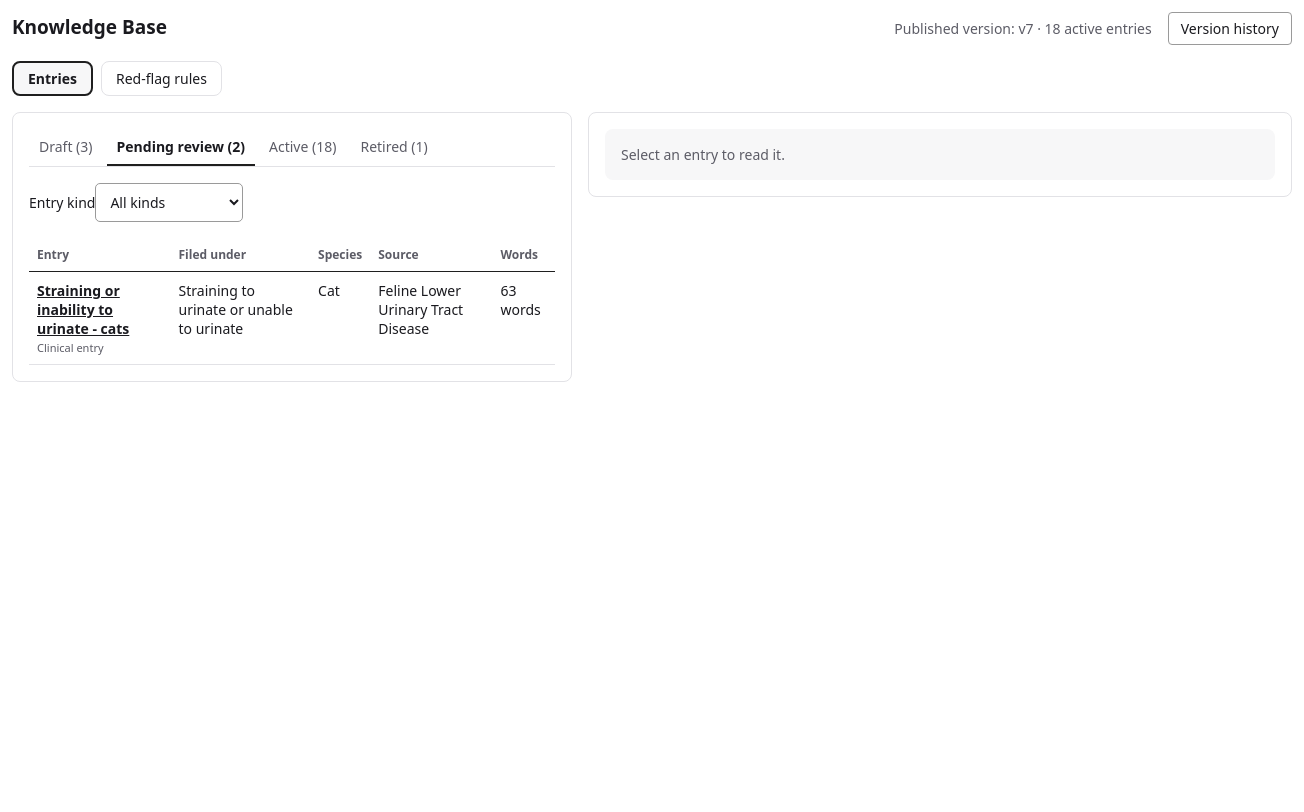
Test: who may approve (BR-04, FR-52) › offers approve and reject to a reviewer holding the KB permission
The width and height of the screenshot is (1304, 812).
Click the button "Straining or inability to urinate - cats" at (100, 310), box 37,281 -> 162,338
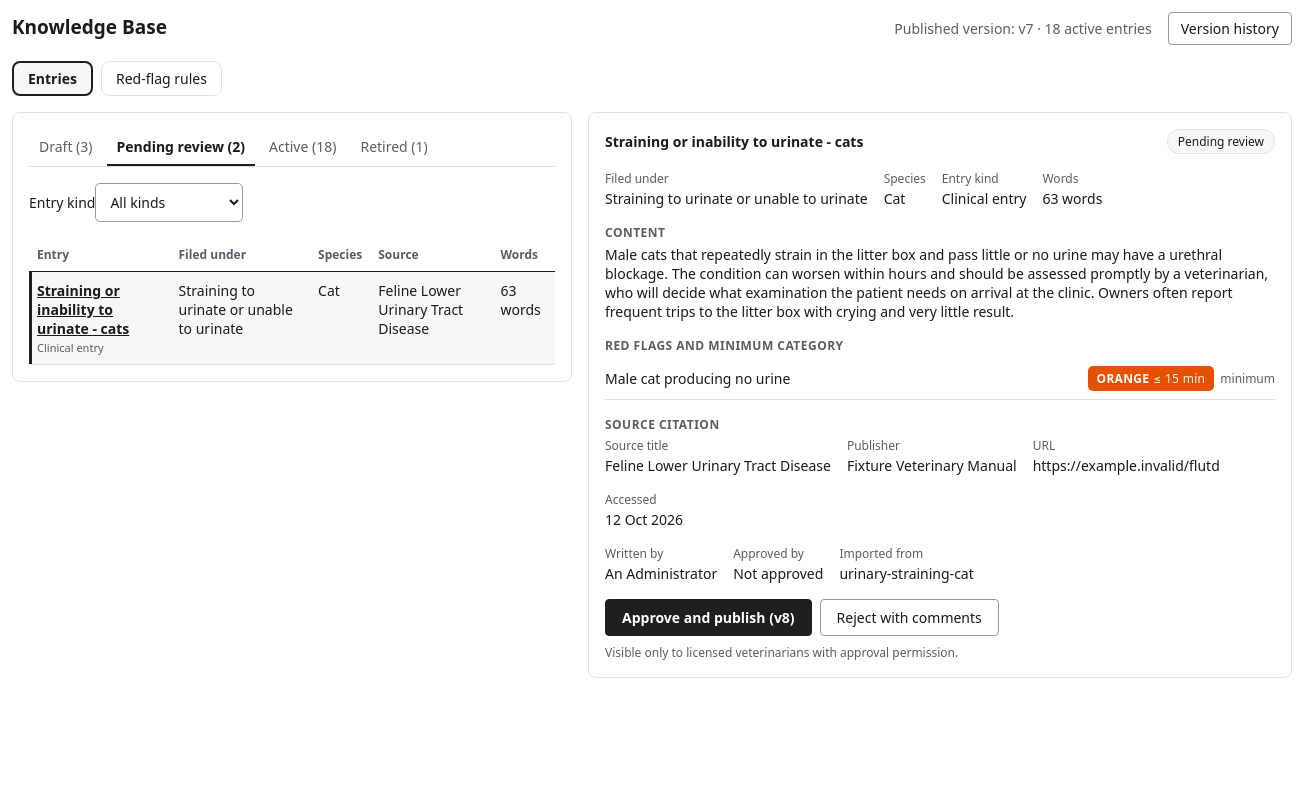
Result: the button "Reject with comments" is shown at 820,599 -> 999,636
Result: the text "Visible only to licensed veterinarians with approval permission." is shown at 605,644 -> 958,661
